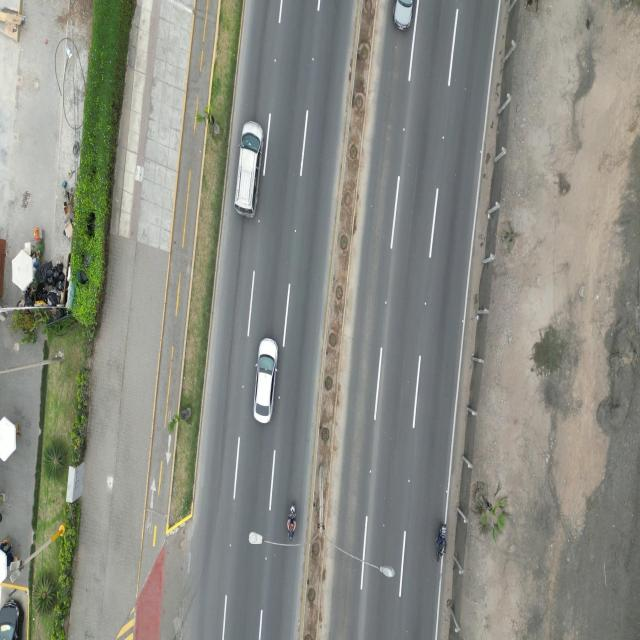Car: (252, 338, 280, 424)
Cycle: (434, 522, 448, 563), (286, 502, 297, 544)
Van: (233, 119, 264, 218)
